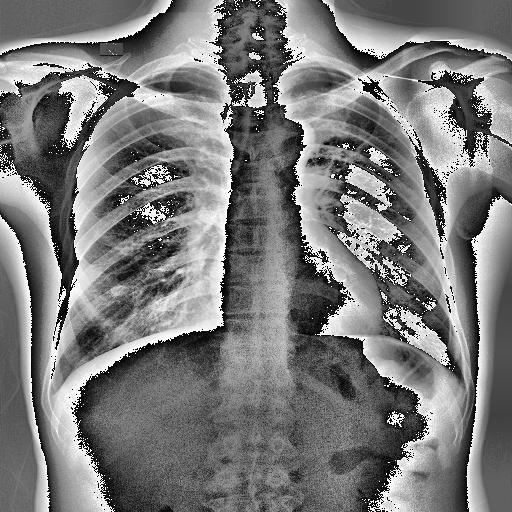10- Pleural effusion: (44, 379, 58, 403)
11- Pleural thickening: (44, 379, 58, 403)
13- Pulmonary fibrosis: (318, 112, 420, 174), (381, 162, 416, 174), (394, 161, 416, 175), (408, 189, 422, 210)
8- Nodule-Mass: (110, 284, 130, 298), (108, 286, 130, 296)
9- Other lesion: (408, 189, 422, 210), (108, 286, 130, 296)
